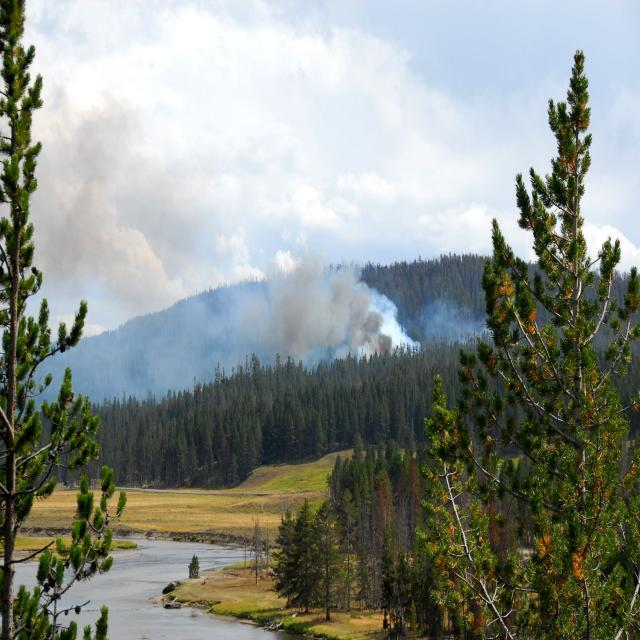Smoke: (41, 106, 412, 387)
